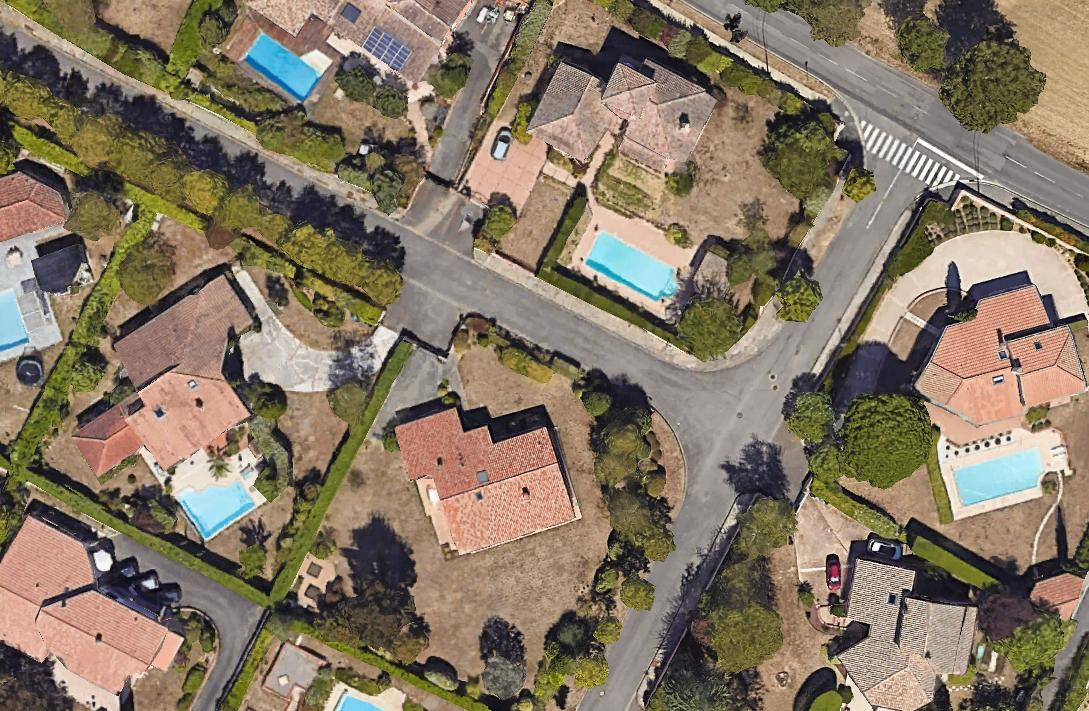maison: (41, 273, 295, 504), (0, 512, 201, 711), (523, 23, 720, 207), (894, 272, 1089, 448), (393, 382, 580, 562), (819, 554, 986, 711), (248, 0, 469, 82), (0, 162, 67, 241)
